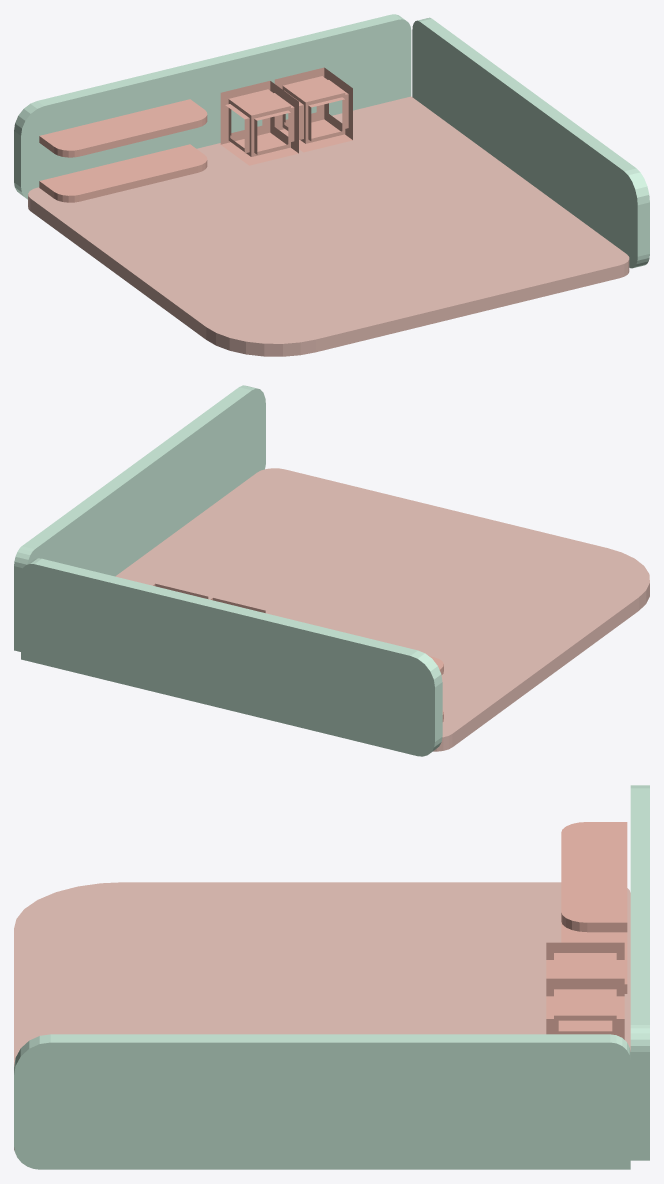
The model's file is store27.glb.
3 views of the same model, one above another, from view 1: azimuth 30°, elevation 25°; view 2: azimuth 150°, elevation 25°; view 3: azimuth 270°, elevation 25° (orthographic). The views are drawn at different scales.
Size of the model in its own units: 3.09 by 0.6794 by 3.08.
